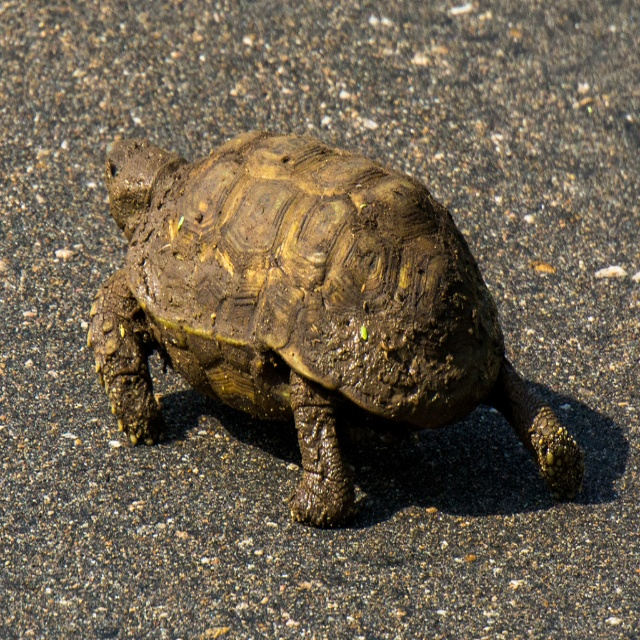Sea turtle: (88, 131, 584, 524)
